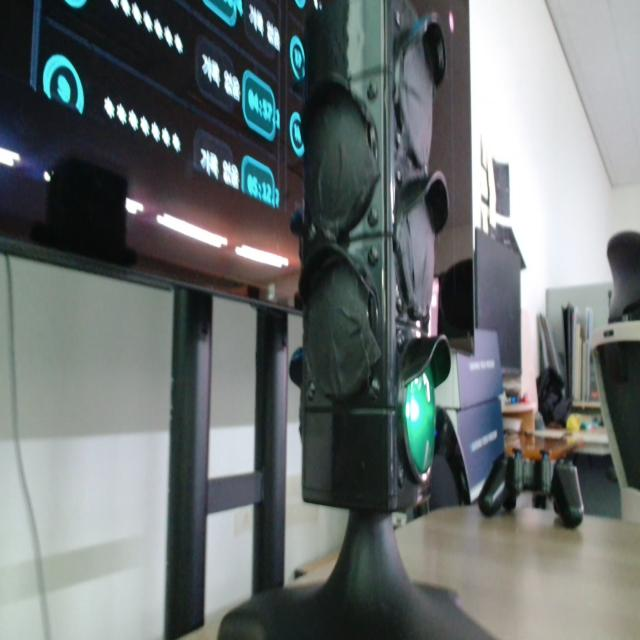green_light: (405, 367, 435, 474)
